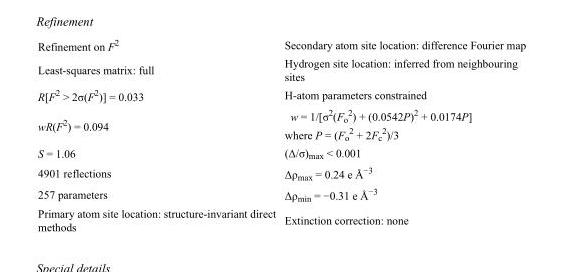table: (37, 36, 525, 232)
table column: (279, 36, 525, 232), (37, 36, 279, 232)
table row: (37, 104, 525, 144), (37, 54, 525, 84), (37, 204, 525, 232), (37, 162, 525, 183), (37, 183, 525, 204), (37, 84, 525, 104), (37, 36, 525, 54), (37, 144, 525, 162)
